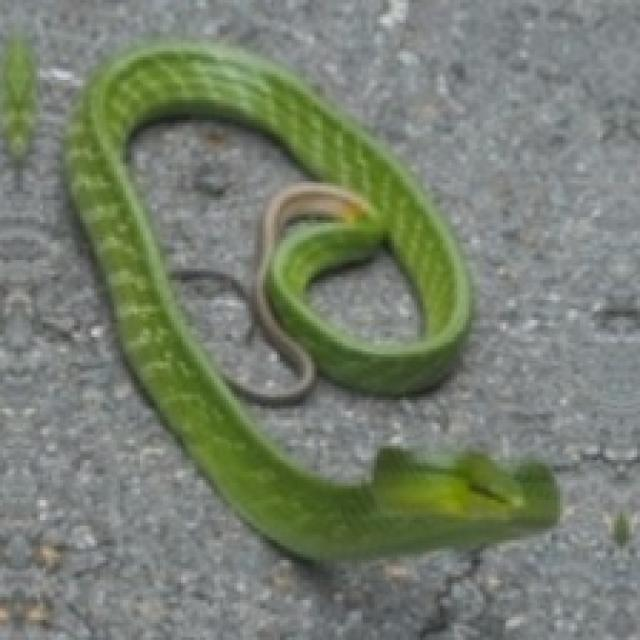red-tailed green ratsnake: (65, 44, 560, 561)
